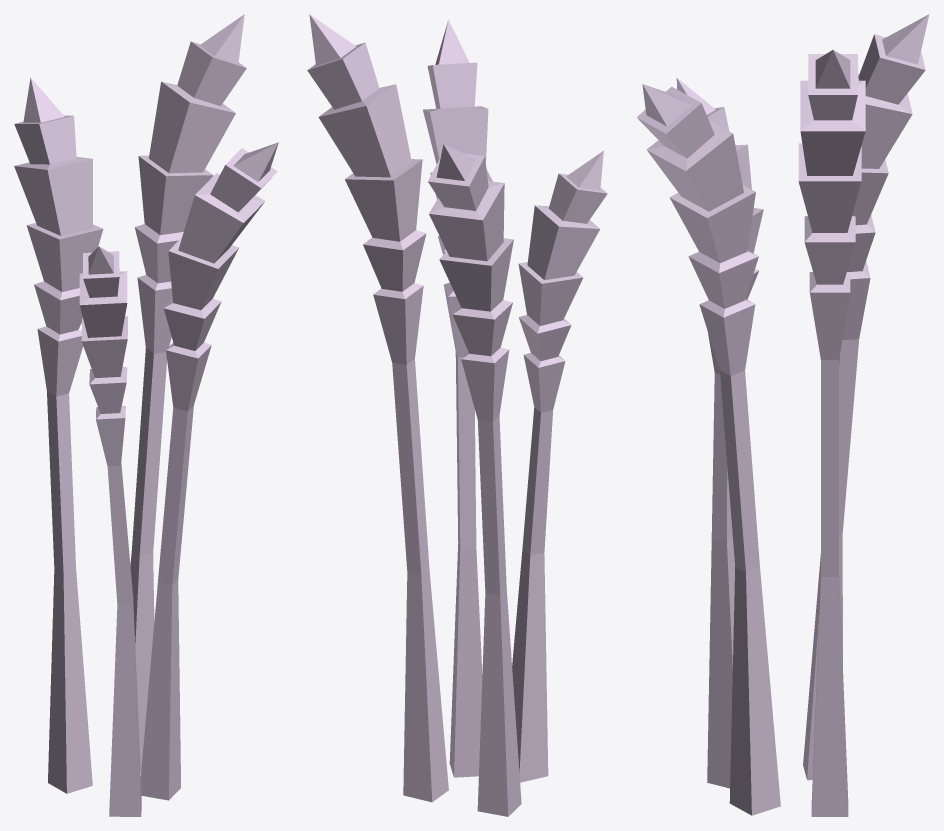
Rendered from flower_parts.glb.
The picture shows the model from 3 angles, left to right: view 1: azimuth 30°, elevation 25°; view 2: azimuth 150°, elevation 25°; view 3: azimuth 270°, elevation 25°; orthographic projection. The views are drawn at different scales.
Visible parts, largest first — view 1: Wheat; view 2: Wheat; view 3: Wheat.
Part boxes in pixels (bbox=[...]): Wheat: bbox=[14, 14, 278, 816]; Wheat: bbox=[307, 14, 607, 816]; Wheat: bbox=[636, 14, 929, 816].
Size of the model in its own units: 51.94 by 160 by 51.75.
